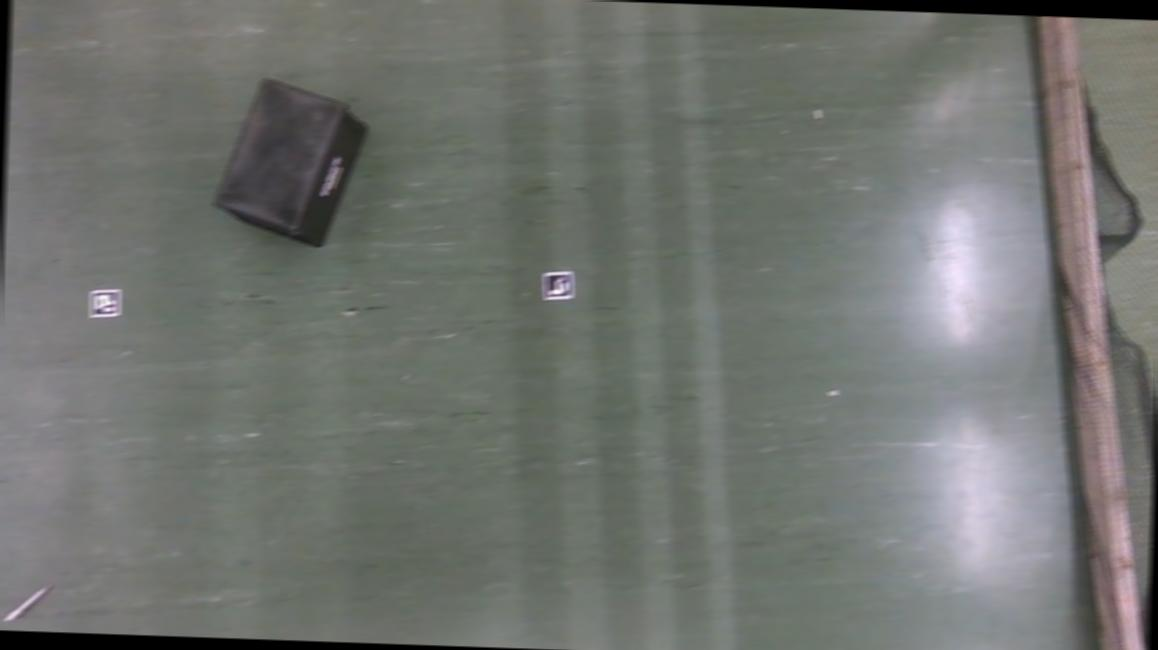probes: (2, 582, 50, 623)
rako: (209, 77, 371, 250), (812, 108, 822, 118)
